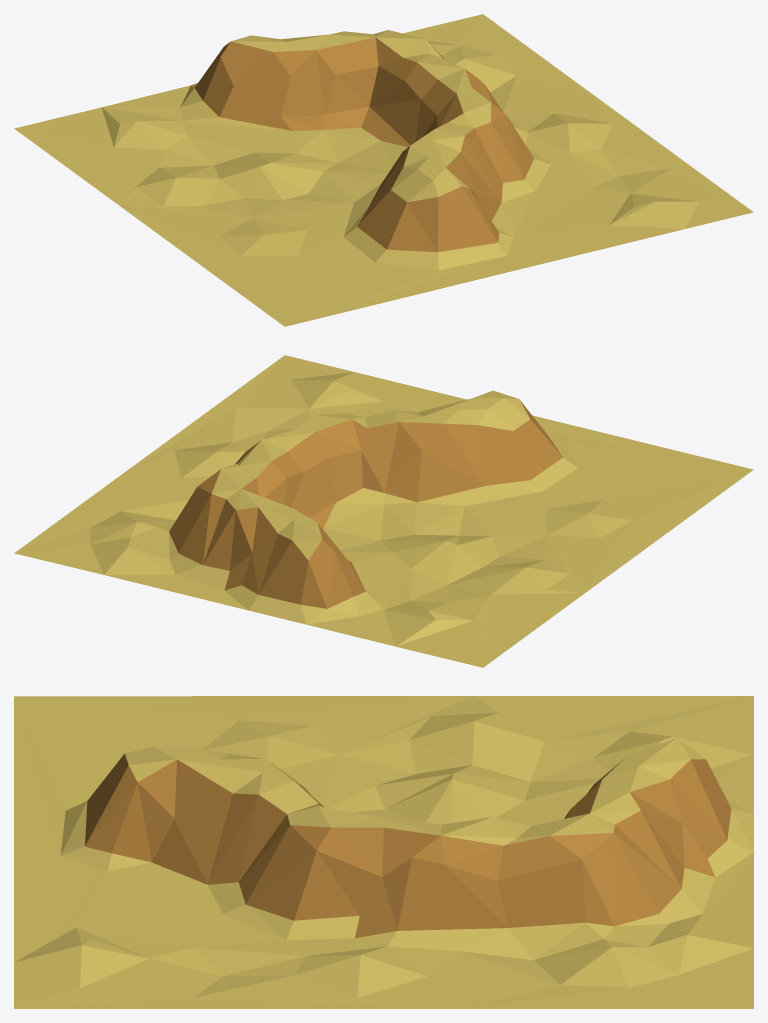
The model's file is Terrain_1.fbx.
The picture shows the model from 3 angles, top to bottom: view 1: azimuth 30°, elevation 25°; view 2: azimuth 150°, elevation 25°; view 3: azimuth 270°, elevation 25°; orthographic projection. The views are drawn at different scales.
Parts seen in each view (by area): view 1: Terrain_1; view 2: Terrain_1; view 3: Terrain_1.
Part boxes in pixels (x1,y1,x2,y2): Terrain_1: (14,14,753,326); Terrain_1: (14,355,753,667); Terrain_1: (14,696,753,1008).
Bounding box in the file's own units: 20 × 2.77 × 20.
